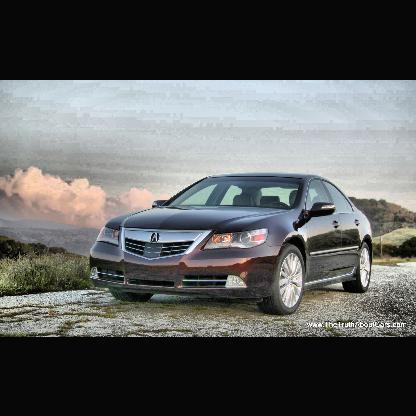Acura RL Sedan 2012: (91, 171, 376, 313)
